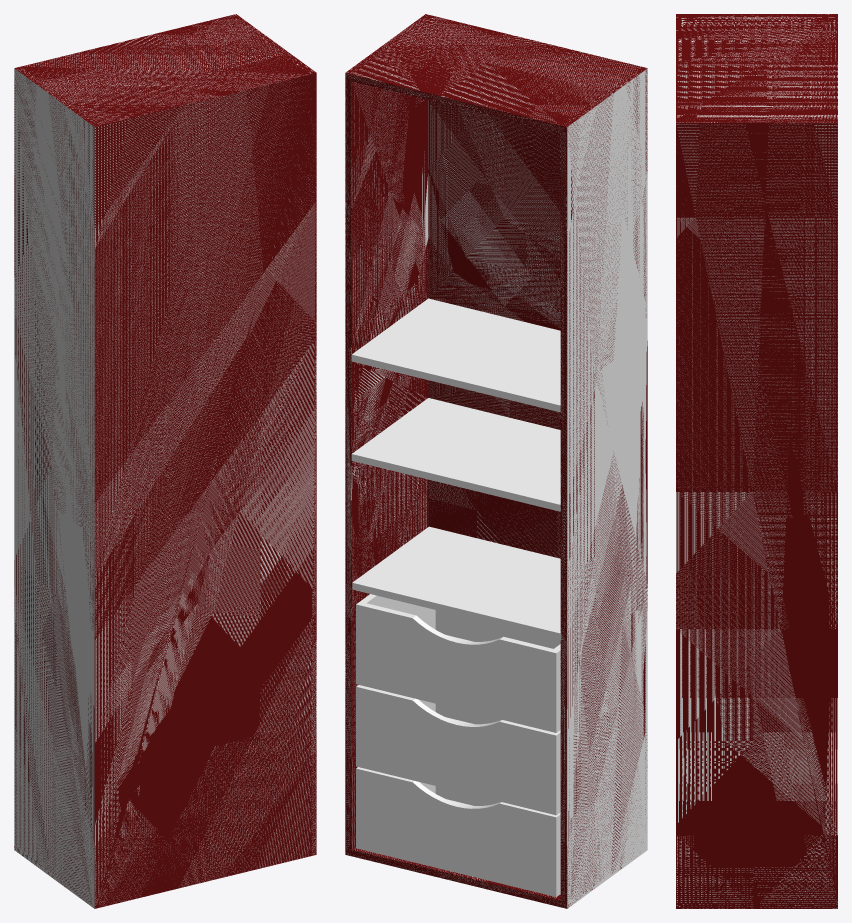
3 views of the same model, side by side, from view 1: azimuth 30°, elevation 25°; view 2: azimuth 150°, elevation 25°; view 3: azimuth 270°, elevation 25° (orthographic).
Visible parts, largest first — view 1: mesh3_mesh3-geometry; view 2: mesh3_mesh3-geometry, mesh1_mesh1-geometry; view 3: mesh3_mesh3-geometry.
Part boxes in pixels (x1,y1,x2,y2): mesh3_mesh3-geometry: [14, 14, 316, 908]; mesh3_mesh3-geometry: [345, 14, 647, 908]; mesh1_mesh1-geometry: [356, 685, 560, 896]; mesh3_mesh3-geometry: [676, 14, 837, 908].
Size of the model in its own units: 0.2806 by 0.9435 by 0.1761.
